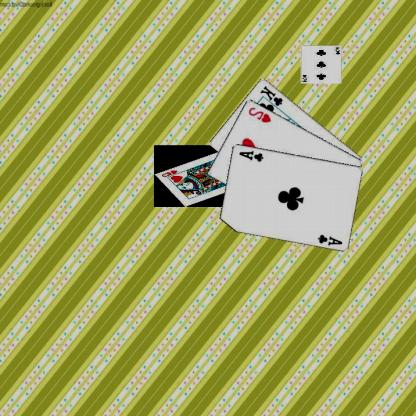2H: (248, 105, 274, 124)
AC: (238, 148, 266, 163), (316, 232, 344, 246)
KC: (259, 83, 285, 112)
